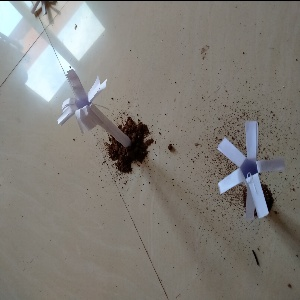weed: (51, 64, 147, 156), (211, 119, 288, 231)
